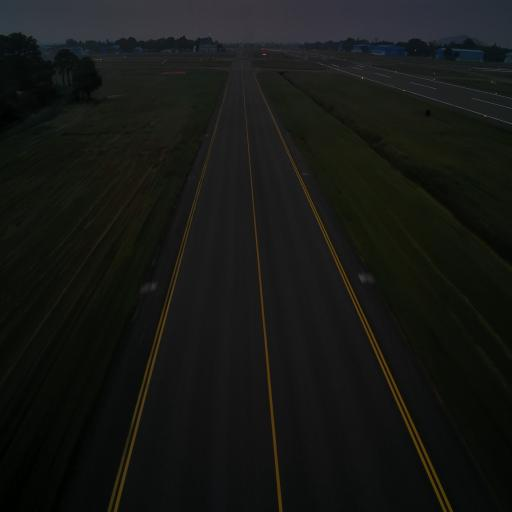on: (362, 269, 367, 281), (151, 279, 155, 287), (206, 132, 208, 136), (286, 130, 288, 134)
